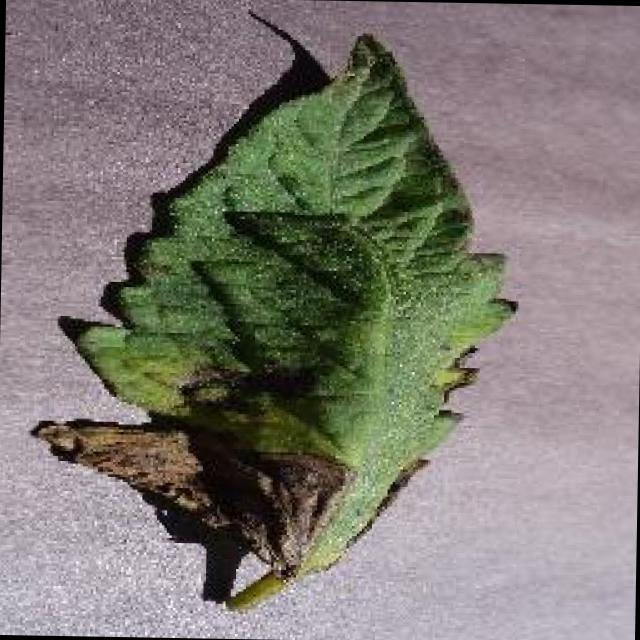Tomato_Early_Blight: (36, 313, 486, 585)
